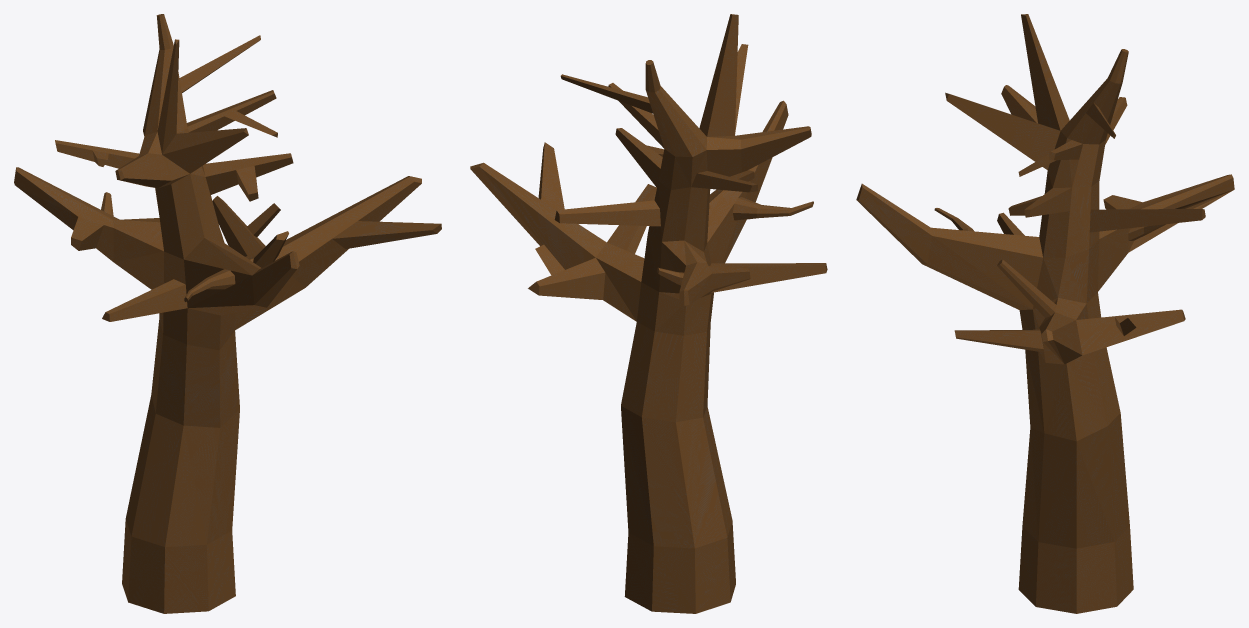
Rendered from Tree_Dead_04.fbx.
3 renders of one model, left to right at view 1: azimuth 30°, elevation 25°; view 2: azimuth 150°, elevation 25°; view 3: azimuth 270°, elevation 25°, orthographic. The views are drawn at different scales.
Parts seen in each view (by area): view 1: Model; view 2: Model; view 3: Model.
Boxes of the visible parts, x1=… form: Model: x1=14, y1=14, x2=441, y2=613; Model: x1=470, y1=14, x2=827, y2=613; Model: x1=856, y1=14, x2=1234, y2=613.
Size of the model in its own units: 534 by 860 by 524.
